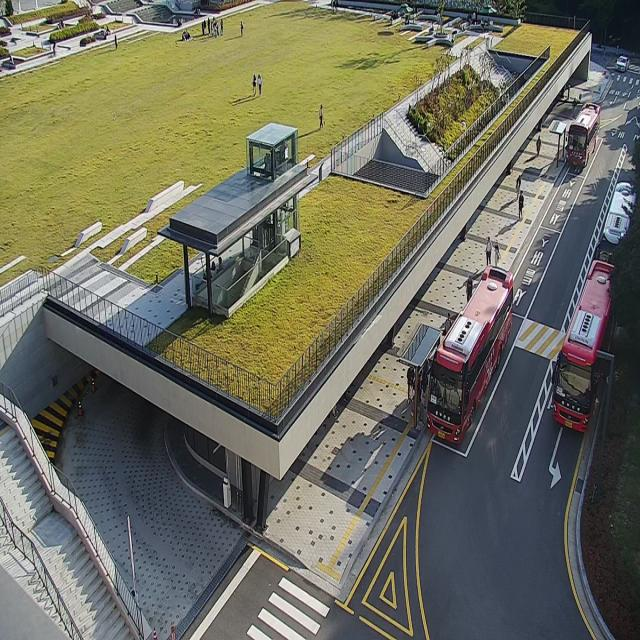queue: (414, 314, 451, 431)
